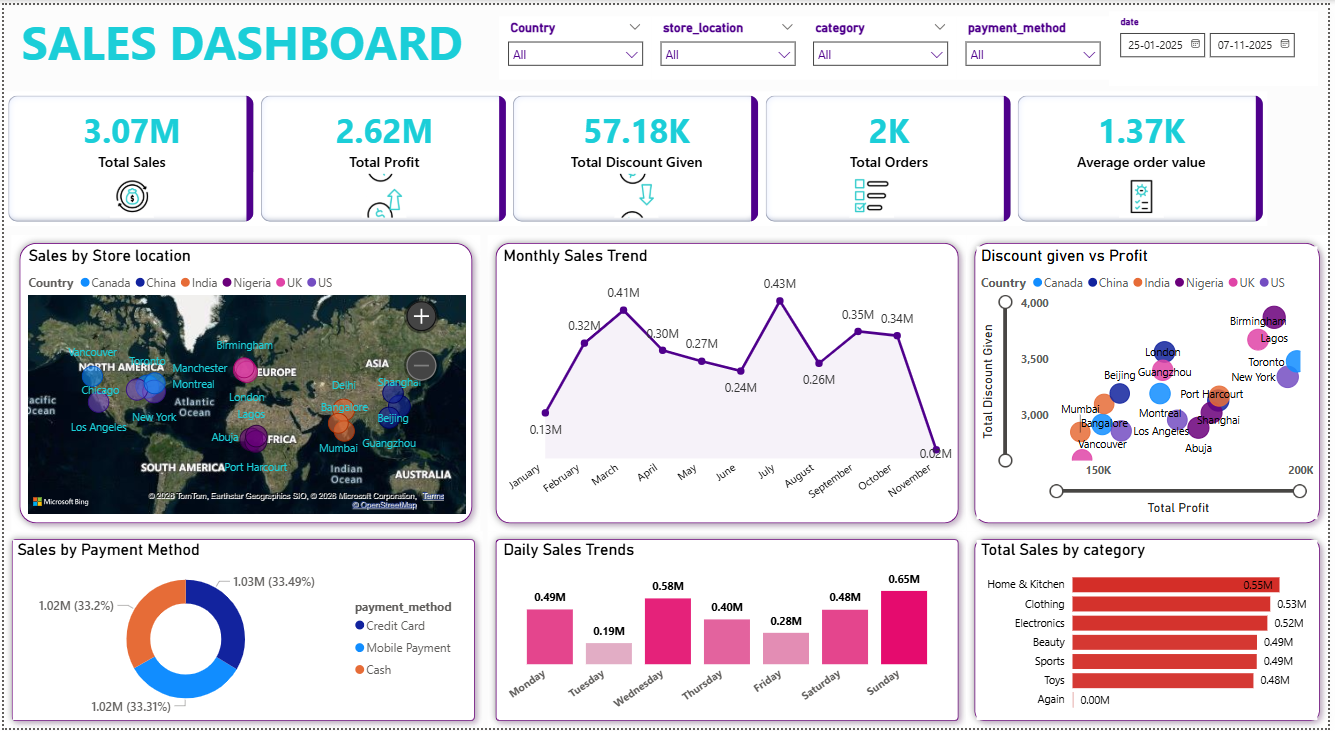

The page's visual inventory and layout, read from the dashboard file:
{"tool":"powerbi","page":{"name":"Page 1","canvas":[1500,820],"ordinal":0},"visuals":[{"type":"cardVisual","fields":{"Data":["public sales_data.Total Sales","public sales_data.Total Profit","public sales_data.Total Discount Given","public sales_data.Total Orders","public sales_data.Average order value"]},"box":[0,97.8,1432.3,153],"z":0,"group":"g1"},{"type":"textbox","box":[0,0,539.8,94.9],"z":1000,"group":"g1"},{"type":"slicer","fields":{"Values":["public sales_data.country"]},"box":[561,12.8,172.8,72.3],"z":2000,"group":"g1"},{"type":"slicer","fields":{"Values":["public sales_data.store_location"]},"box":[733.9,12.8,172.8,72.3],"z":3000,"group":"g1"},{"type":"shape","box":[8.5,260.7,531.3,335.8],"z":4000,"group":"g1"},{"type":"slicer","fields":{"Values":["public sales_data.category"]},"box":[906.7,12.8,172.8,72.3],"z":5000,"group":"g1"},{"type":"map","title":"Sales by Store location","fields":{"Category":["public sales_data.store_location"],"Size":["public sales_data.Total Sales"],"Series":["public sales_data.country"]},"box":[22.7,273.4,505.8,308.8],"z":6000,"group":"g1"},{"type":"slicer","fields":{"Values":["public sales_data.payment_method"]},"box":[1079.5,12.8,172.8,72.3],"z":7000,"group":"g1"},{"type":"slicer","fields":{"Values":["public sales_data.date"]},"box":[1252.4,7.1,236.6,85],"z":8000,"group":"g1"},{"type":"shape","box":[548.3,260.7,542.6,335.8],"z":9000,"group":"g1"},{"type":"areaChart","title":"Monthly Sales Trend","fields":{"Category":["public sales_data.Month Name"],"Y":["public sales_data.Total Sales"]},"box":[561,273.4,518.5,308.8],"z":10000,"group":"g1"},{"type":"shape","box":[548.3,596.4,542.6,223.8],"z":11000,"group":"g1"},{"type":"columnChart","title":"Daily Sales Trends","fields":{"Category":["public sales_data.Day Name"],"Y":["public sales_data.Total Sales"]},"box":[561,606.4,518.5,204],"z":12000,"group":"g1"},{"type":"shape","box":[0,596.4,542.6,223.8],"z":13000,"group":"g1"},{"type":"donutChart","title":"Sales by Payment Method","fields":{"Category":["public sales_data.payment_method"],"Y":["public sales_data.Total Sales"]},"box":[9.9,606.4,518.5,204],"z":14000,"group":"g1"},{"type":"shape","box":[1090.9,260.7,409.4,335.8],"z":15000,"group":"g1"},{"type":"scatterChart","title":"Discount given vs Profit","fields":{"X":["public sales_data.Total Sales"],"Y":["public sales_data.Total Discount"],"Category":["public sales_data.store_location"],"Series":["public sales_data.country"],"Size":["public sales_data.Total Orders"]},"box":[1102.2,273.4,386.8,308.8],"z":16000,"group":"g1"},{"type":"shape","box":[1090.9,596.4,409.4,223.8],"z":17000,"group":"g1"},{"type":"barChart","fields":{"Category":["public sales_data.category"],"Y":["public sales_data.Total Sales"]},"box":[1102.2,606.4,386.8,204],"z":18000,"group":"g1"},{"type":"group","id":"g1","title":"Group 1","box":[0,0,1500.3,820.3],"z":18001}]}

Visuals, with their boxes in screenshot pixels (x1, y1, x2, y2), scaled from the page's 1500x820 canvas onto the 1335x731 screenshot:
cardVisual - public sales_data.Total Sales x public sales_data.Total Profit: BBox(0, 87, 1275, 224)
textbox: BBox(0, 0, 480, 85)
slicer - public sales_data.country: BBox(499, 11, 653, 76)
slicer - public sales_data.store_location: BBox(653, 11, 807, 76)
shape: BBox(8, 232, 480, 532)
slicer - public sales_data.category: BBox(807, 11, 961, 76)
"Sales by Store location" map: BBox(20, 244, 470, 519)
slicer - public sales_data.payment_method: BBox(961, 11, 1115, 76)
slicer - public sales_data.date: BBox(1115, 6, 1325, 82)
shape: BBox(488, 232, 971, 532)
"Monthly Sales Trend" areaChart: BBox(499, 244, 961, 519)
shape: BBox(488, 532, 971, 730)
"Daily Sales Trends" columnChart: BBox(499, 541, 961, 722)
shape: BBox(0, 532, 483, 730)
"Sales by Payment Method" donutChart: BBox(9, 541, 470, 722)
shape: BBox(971, 232, 1334, 532)
"Discount given vs Profit" scatterChart: BBox(981, 244, 1325, 519)
shape: BBox(971, 532, 1334, 730)
barChart - public sales_data.category x public sales_data.Total Sales: BBox(981, 541, 1325, 722)
"Group 1" group: BBox(0, 0, 1334, 730)
